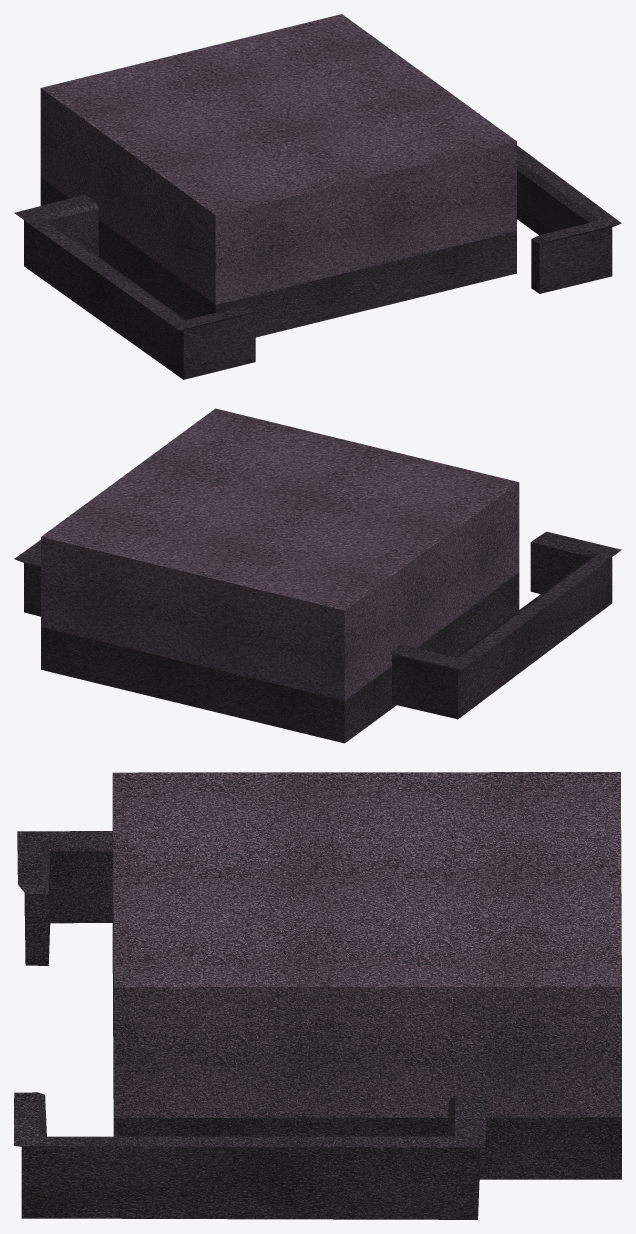
The model's file is park_toilet.dae.
The picture shows the model from 3 angles, top to bottom: view 1: azimuth 30°, elevation 25°; view 2: azimuth 150°, elevation 25°; view 3: azimuth 270°, elevation 25°; orthographic projection. The views are drawn at different scales.
Visible parts, largest first — view 1: Cube; view 2: Cube; view 3: Cube.
Boxes of the visible parts, <box> form: Cube: <box>14,14,621,379</box>; Cube: <box>14,408,621,743</box>; Cube: <box>14,772,621,1219</box>.
Bounding box in the file's own units: 11.35 × 9.16 × 3.2.
2 materials, 2 textured.
